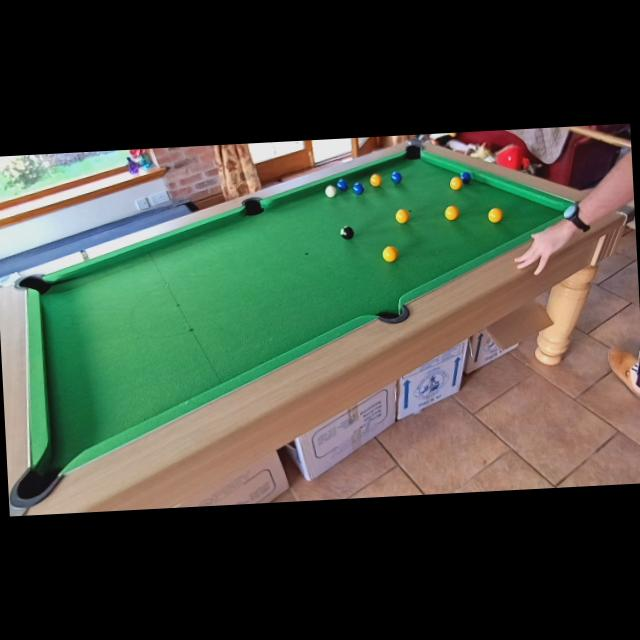Ball: (382, 246, 398, 263), (488, 208, 504, 223), (340, 225, 355, 240), (396, 209, 410, 224), (446, 206, 460, 220), (451, 177, 464, 190), (326, 185, 338, 199), (370, 174, 382, 188), (336, 178, 348, 191), (390, 172, 403, 184), (352, 182, 364, 195), (460, 172, 472, 184)
